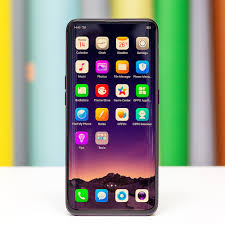oppo: (63, 15, 160, 218)
